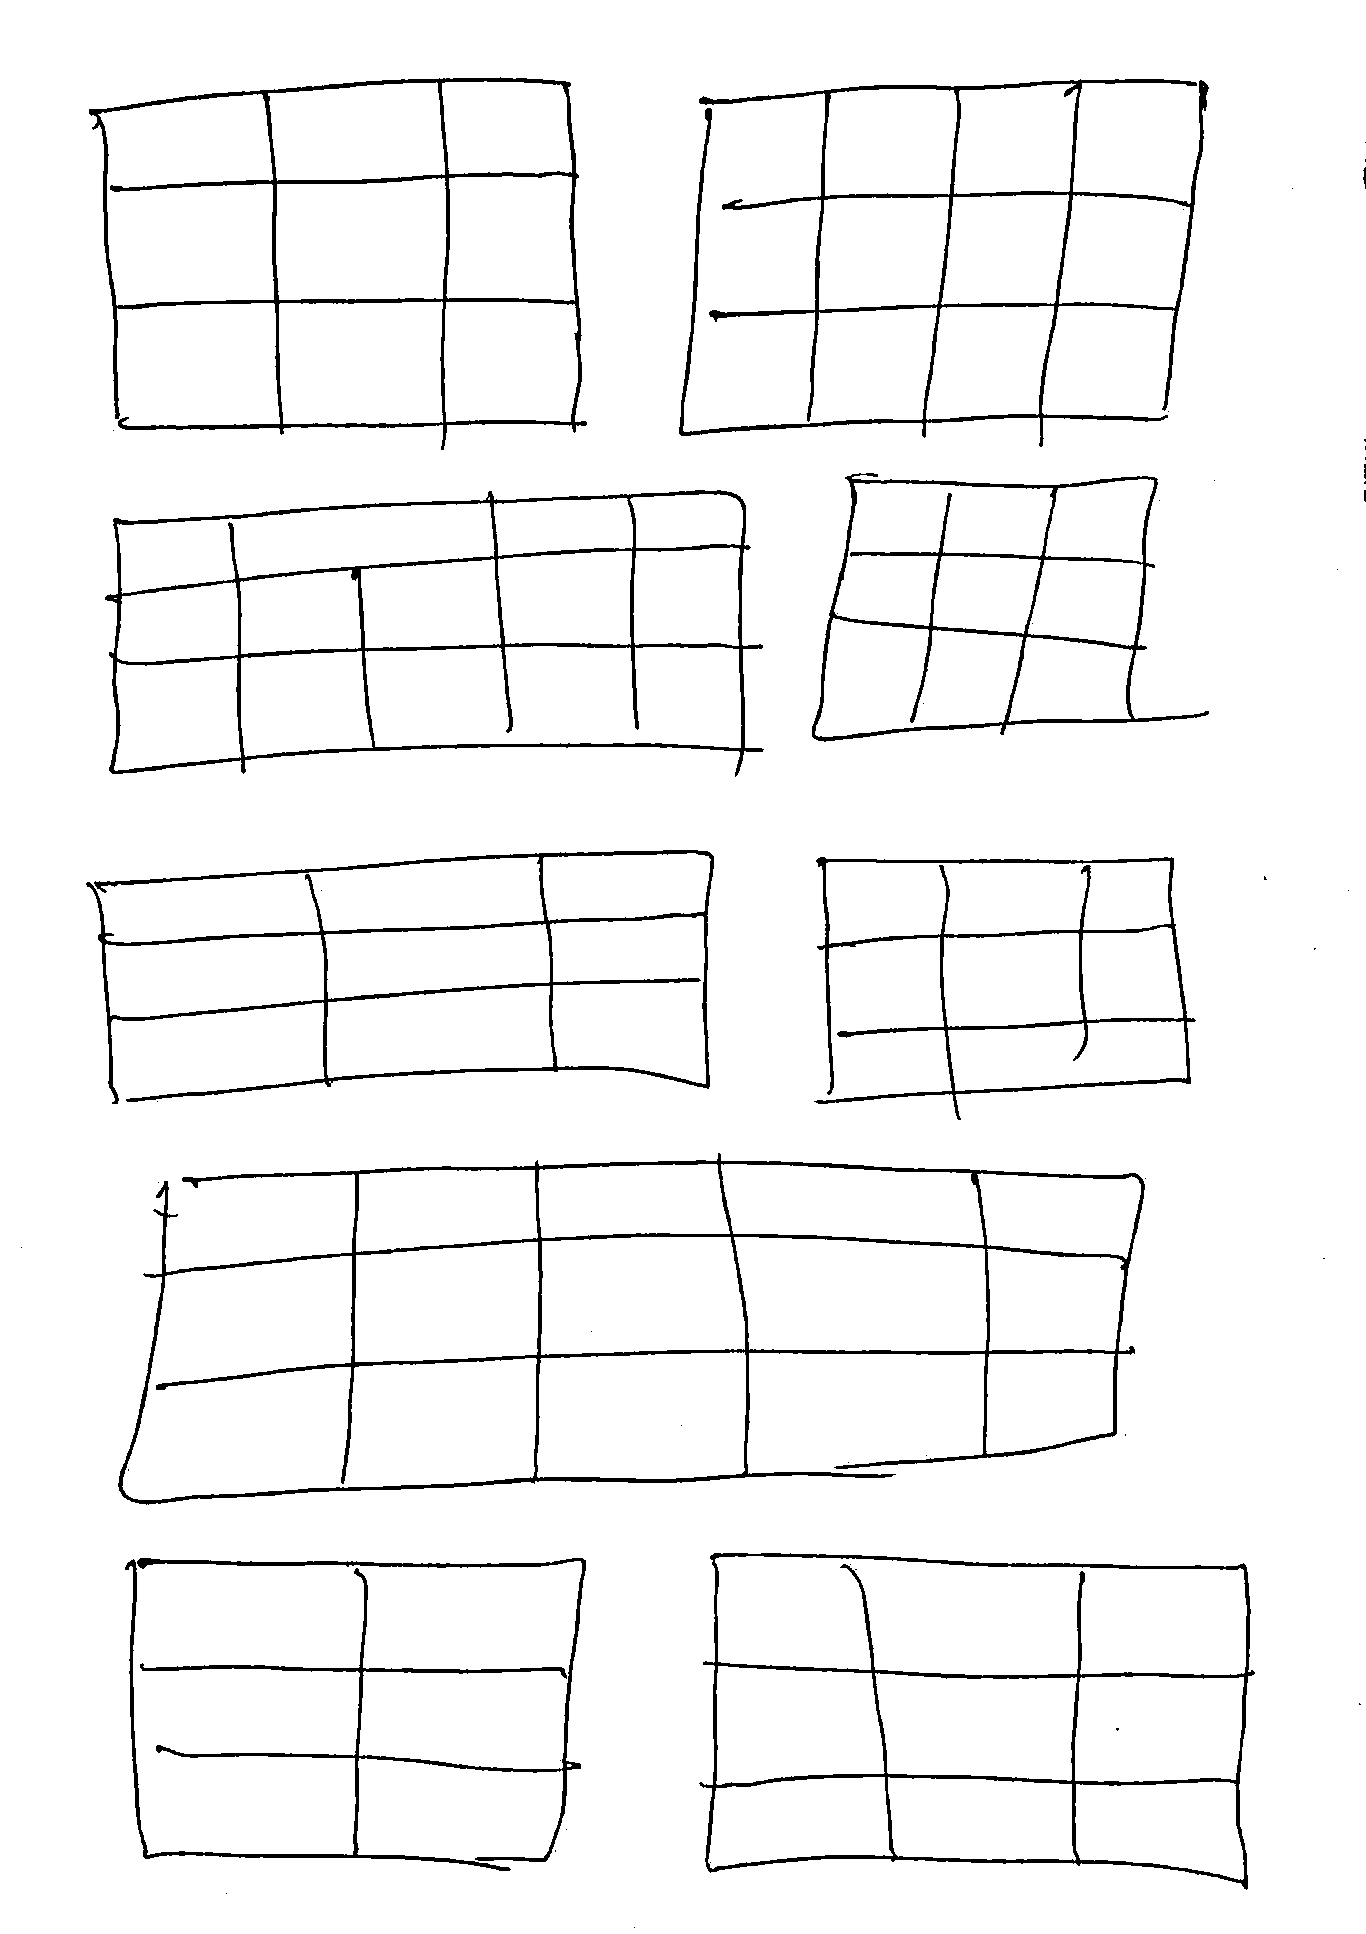Table: (112, 1158, 1149, 1510), (665, 72, 1209, 444), (106, 486, 748, 784), (699, 1548, 1257, 1888), (89, 69, 594, 441), (81, 847, 717, 1105), (123, 1553, 591, 1870), (809, 470, 1169, 745), (816, 853, 1192, 1116)
